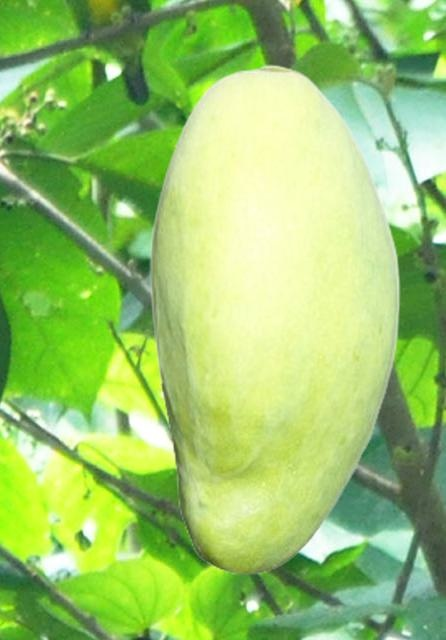green_mango: (149, 64, 399, 574)
